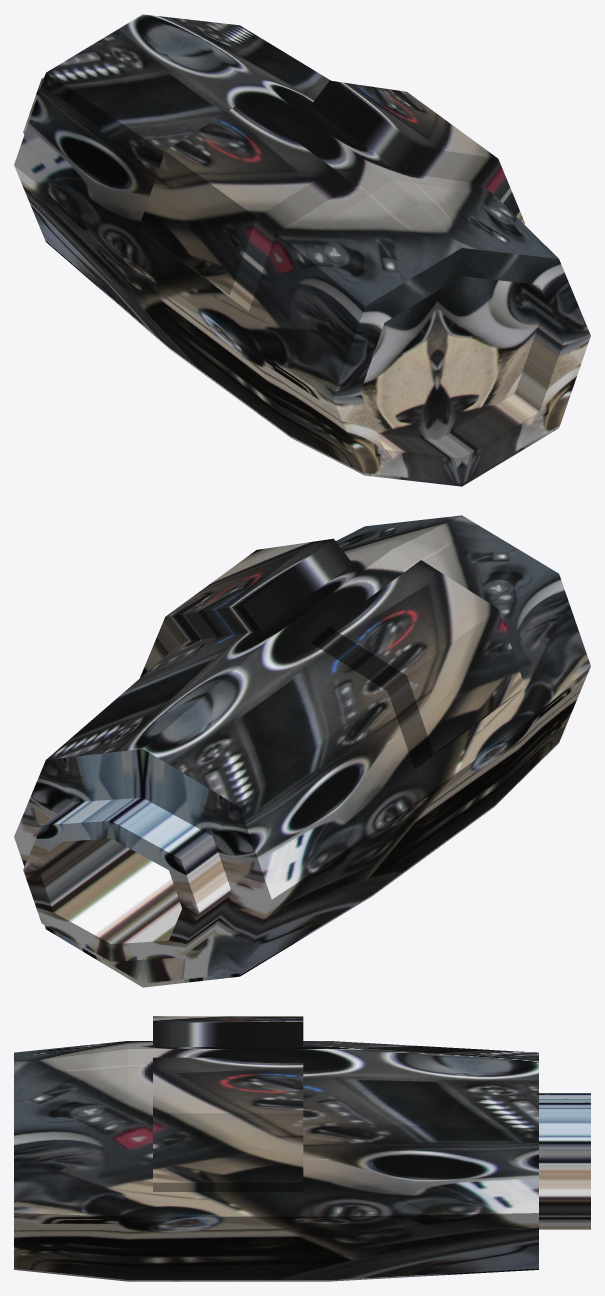
3 renders of one model, top to bottom at view 1: azimuth 30°, elevation 25°; view 2: azimuth 150°, elevation 25°; view 3: azimuth 270°, elevation 25°, orthographic. The views are drawn at different scales.
Visible parts, largest first — view 1: Engine-3.002_Cube.028; view 2: Engine-3.002_Cube.028; view 3: Engine-3.002_Cube.028.
Boxes of the visible parts, x1=… form: Engine-3.002_Cube.028: x1=14, y1=14, x2=590, y2=486; Engine-3.002_Cube.028: x1=14, y1=515, x2=590, y2=987; Engine-3.002_Cube.028: x1=14, y1=1016, x2=590, y2=1281.
Bounding box in the file's own units: 5.08 × 4.66 × 10.44.
